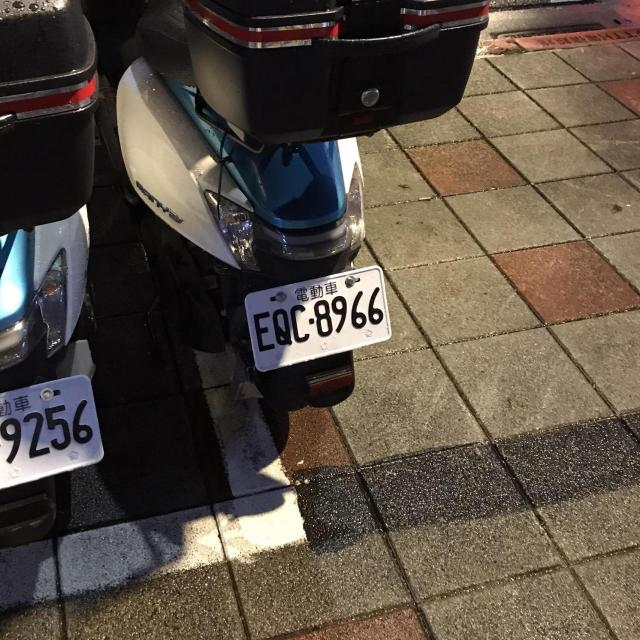W: (238, 262, 400, 379), (0, 368, 110, 508)
